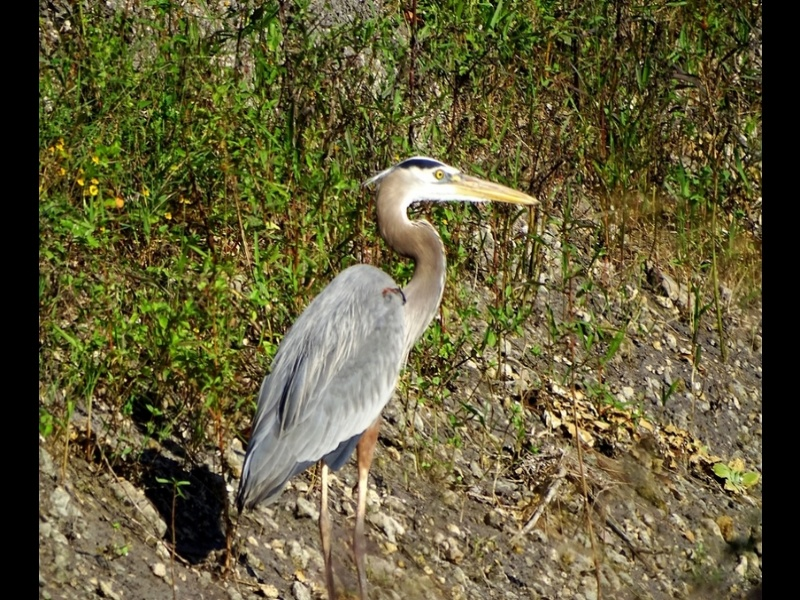heron: (239, 155, 540, 598)
